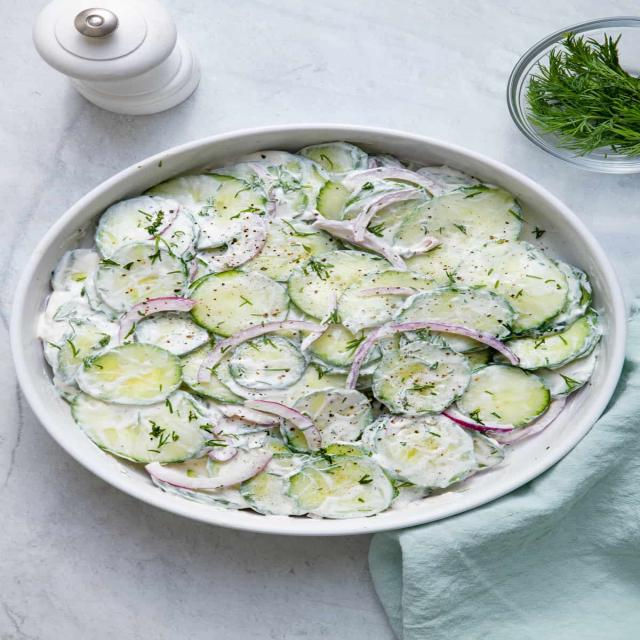Pickle: (394, 185, 521, 285), (148, 174, 268, 271), (454, 240, 568, 334), (71, 390, 214, 462), (362, 414, 478, 488), (214, 150, 330, 220), (287, 250, 392, 320), (373, 341, 471, 416), (289, 455, 396, 519), (77, 342, 182, 405), (189, 270, 289, 336), (94, 241, 188, 311), (96, 196, 199, 259), (396, 286, 518, 339), (456, 365, 551, 428), (506, 310, 602, 370), (294, 388, 373, 447), (229, 335, 308, 389), (240, 454, 309, 515), (133, 311, 210, 355), (317, 181, 351, 220)
